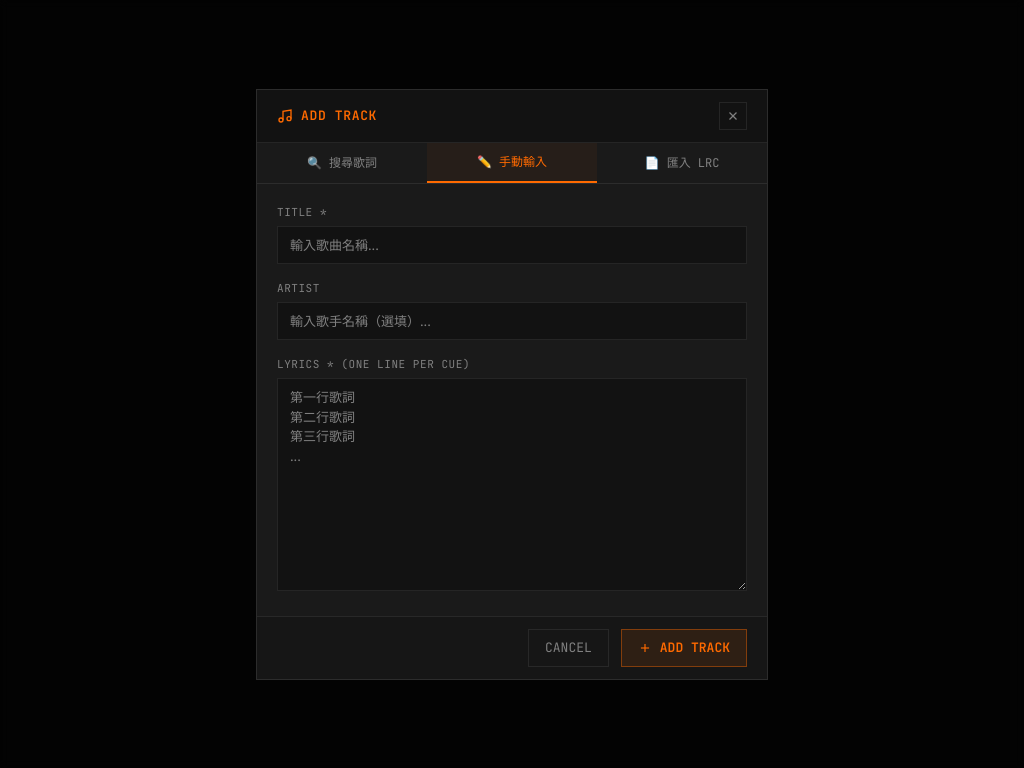
Test: AddSongModal › shows API error message when createSong fails
Type "Test Song" into the field with placeholder "輸入歌曲名稱..." at (512, 245), box 277,226 -> 747,264
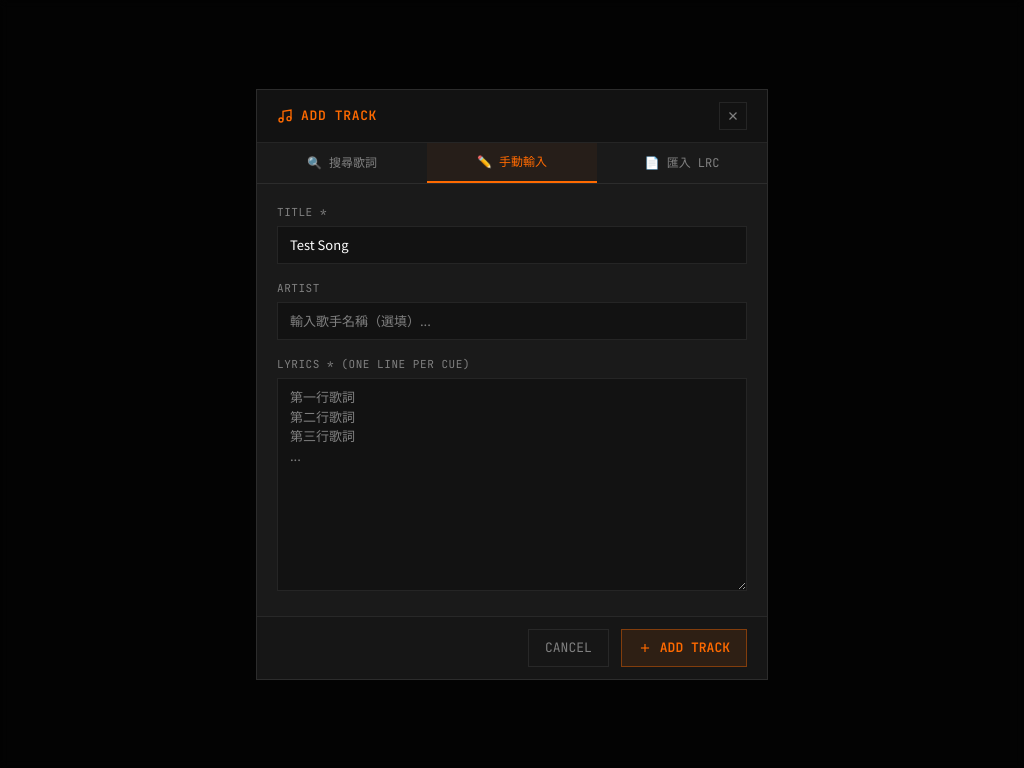
Type "Line 1" into the text box with placeholder "第一行歌詞 第二行歌詞 第三行歌詞 ..." at (512, 484), box 277,378 -> 747,591
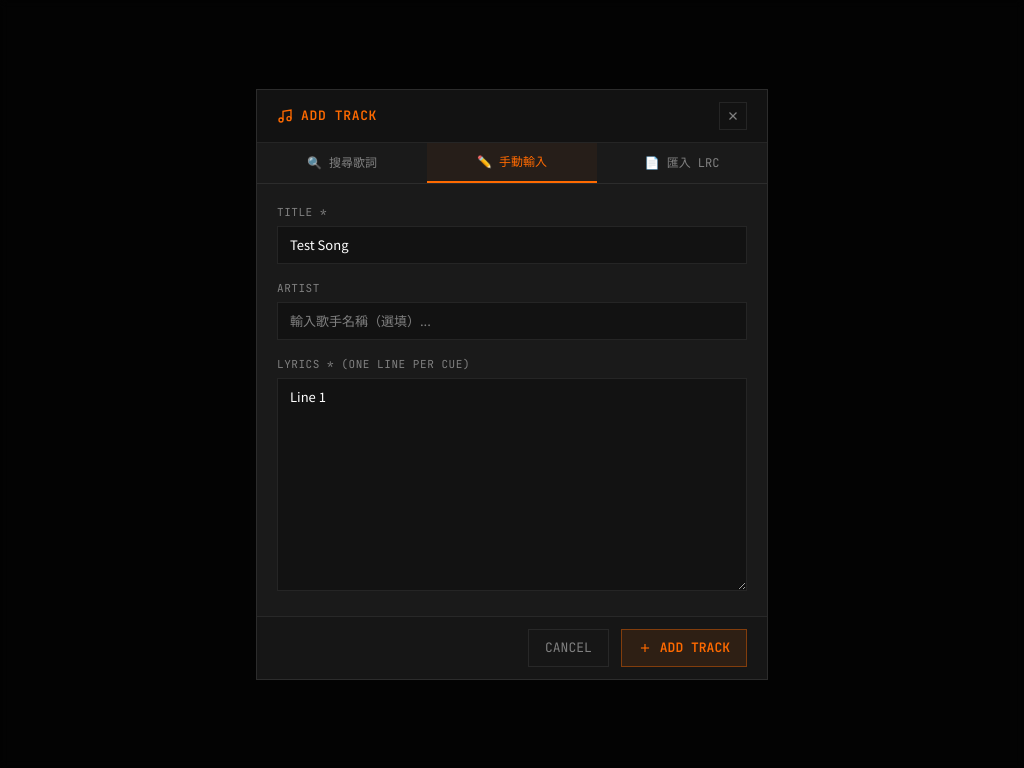
Click the button "ADD TRACK" at (684, 648), box 621,629 -> 747,666
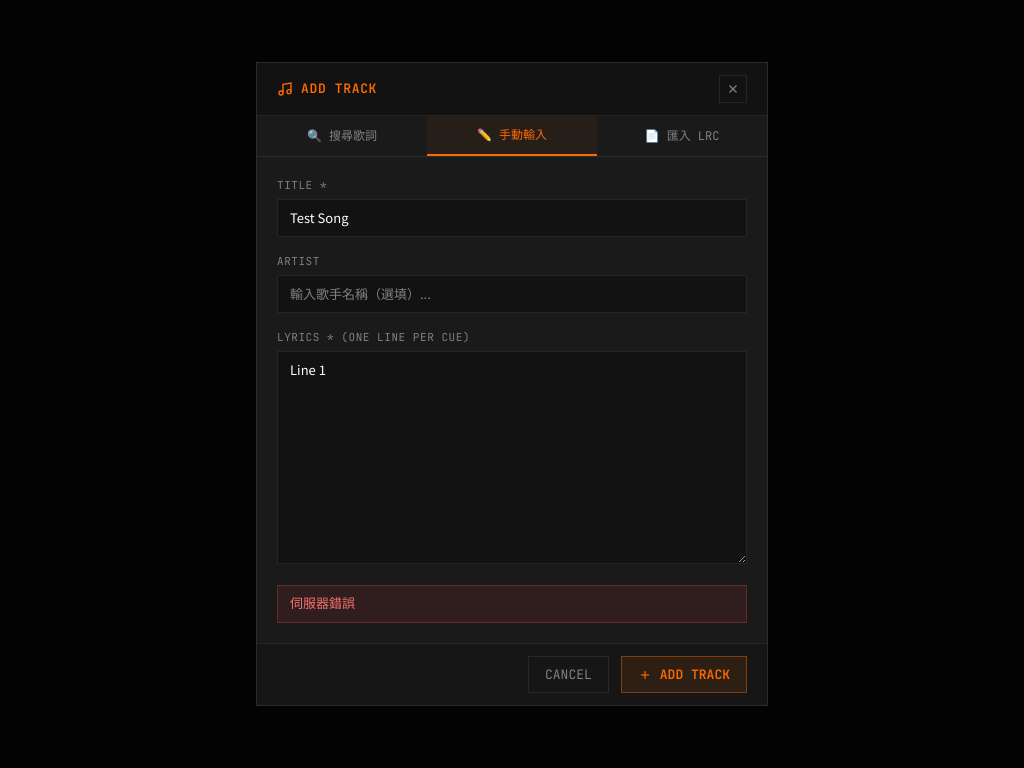
Expected: the text "伺服器錯誤" is shown, 277,585 -> 747,623
